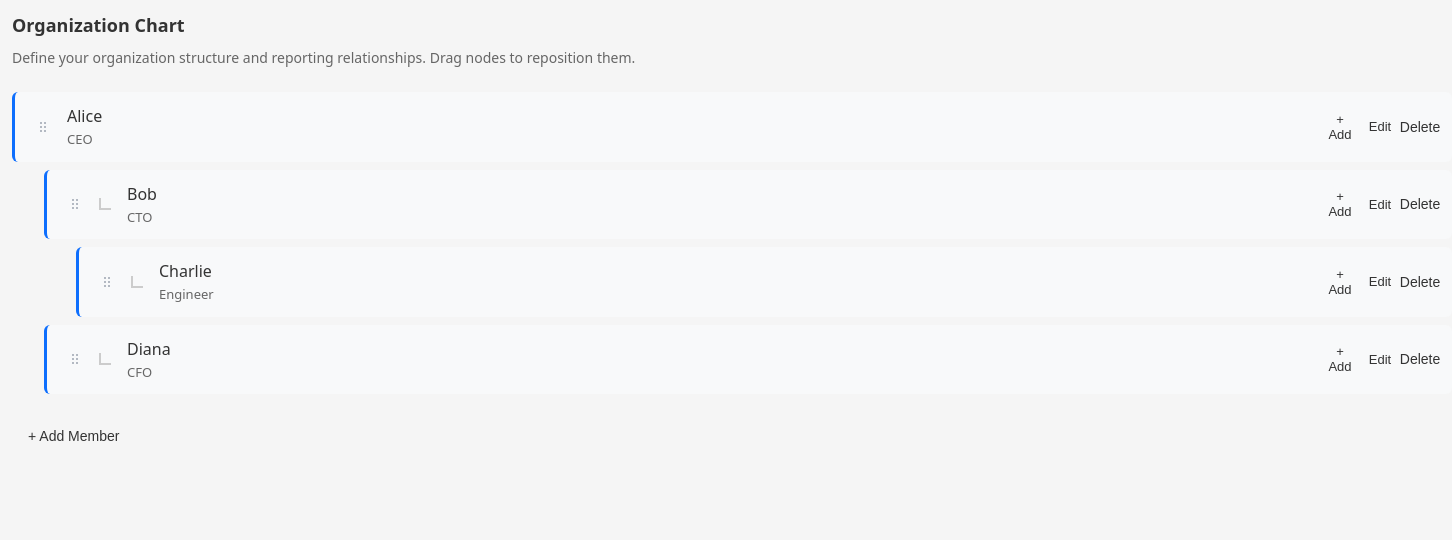
OrgChartEditor › Editing nodes › shows edit form when Edit button is clicked
The width and height of the screenshot is (1452, 540).
Click the button with aria-label "Edit Alice" at (1380, 127), box [1364,111,1396,143]
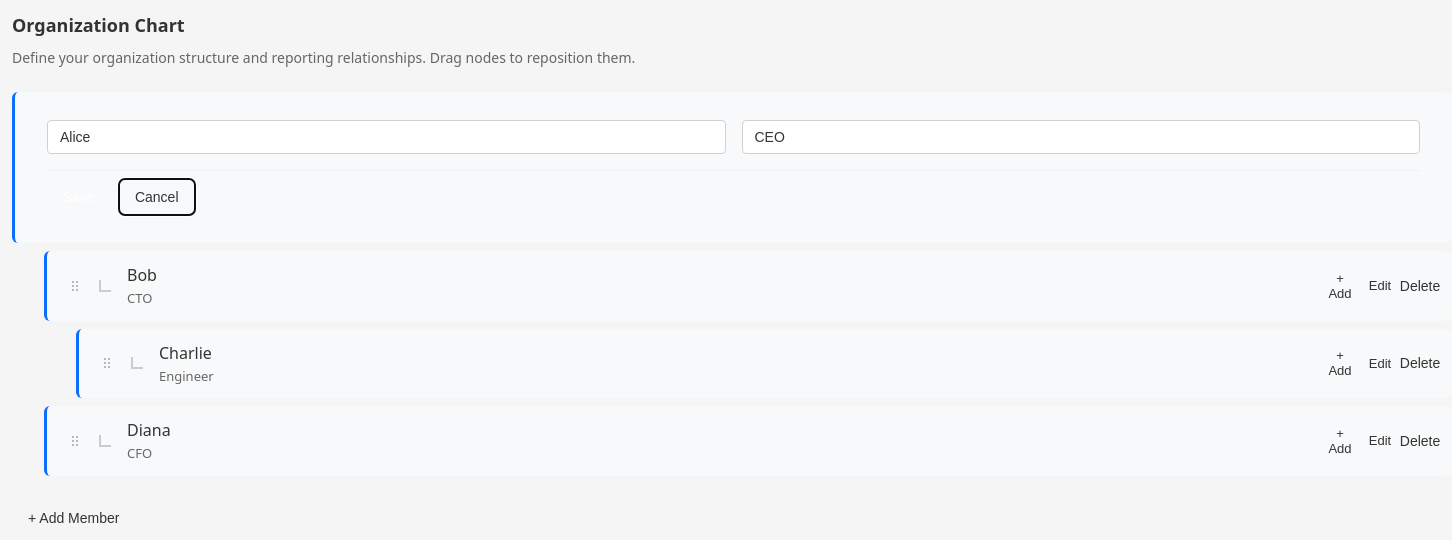
expect the 1st field holds "Alice": met, box [47,120,726,154]
expect the 2nd field holds "CEO": met, box [742,120,1420,154]
